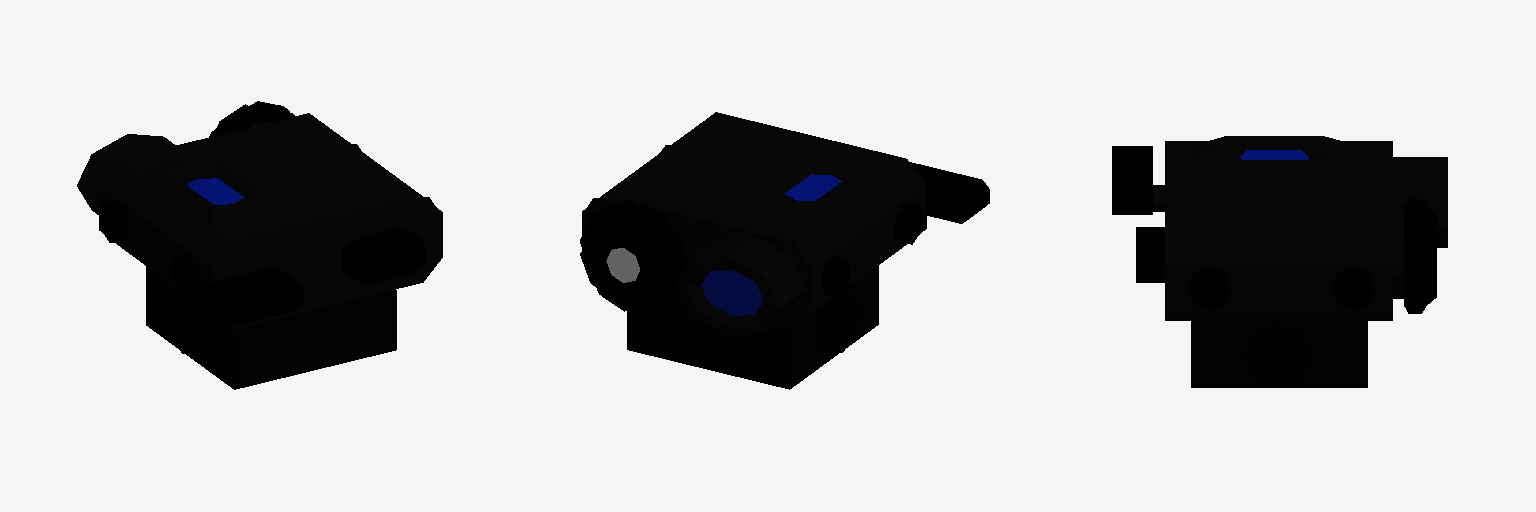
File: Laser_West.obj
The picture shows the model from 3 angles: view 1: azimuth 30°, elevation 25°; view 2: azimuth 150°, elevation 25°; view 3: azimuth 270°, elevation 25°; orthographic projection.
Parts seen in each view (by area): view 1: Laser_West; view 2: Laser_West; view 3: Laser_West.
Part boxes in pixels (bbox=[...]): Laser_West: bbox=[77, 101, 442, 389]; Laser_West: bbox=[580, 112, 989, 389]; Laser_West: bbox=[1112, 136, 1447, 387].
Size of the model in its own units: 0.0844 by 0.0499 by 0.0891.